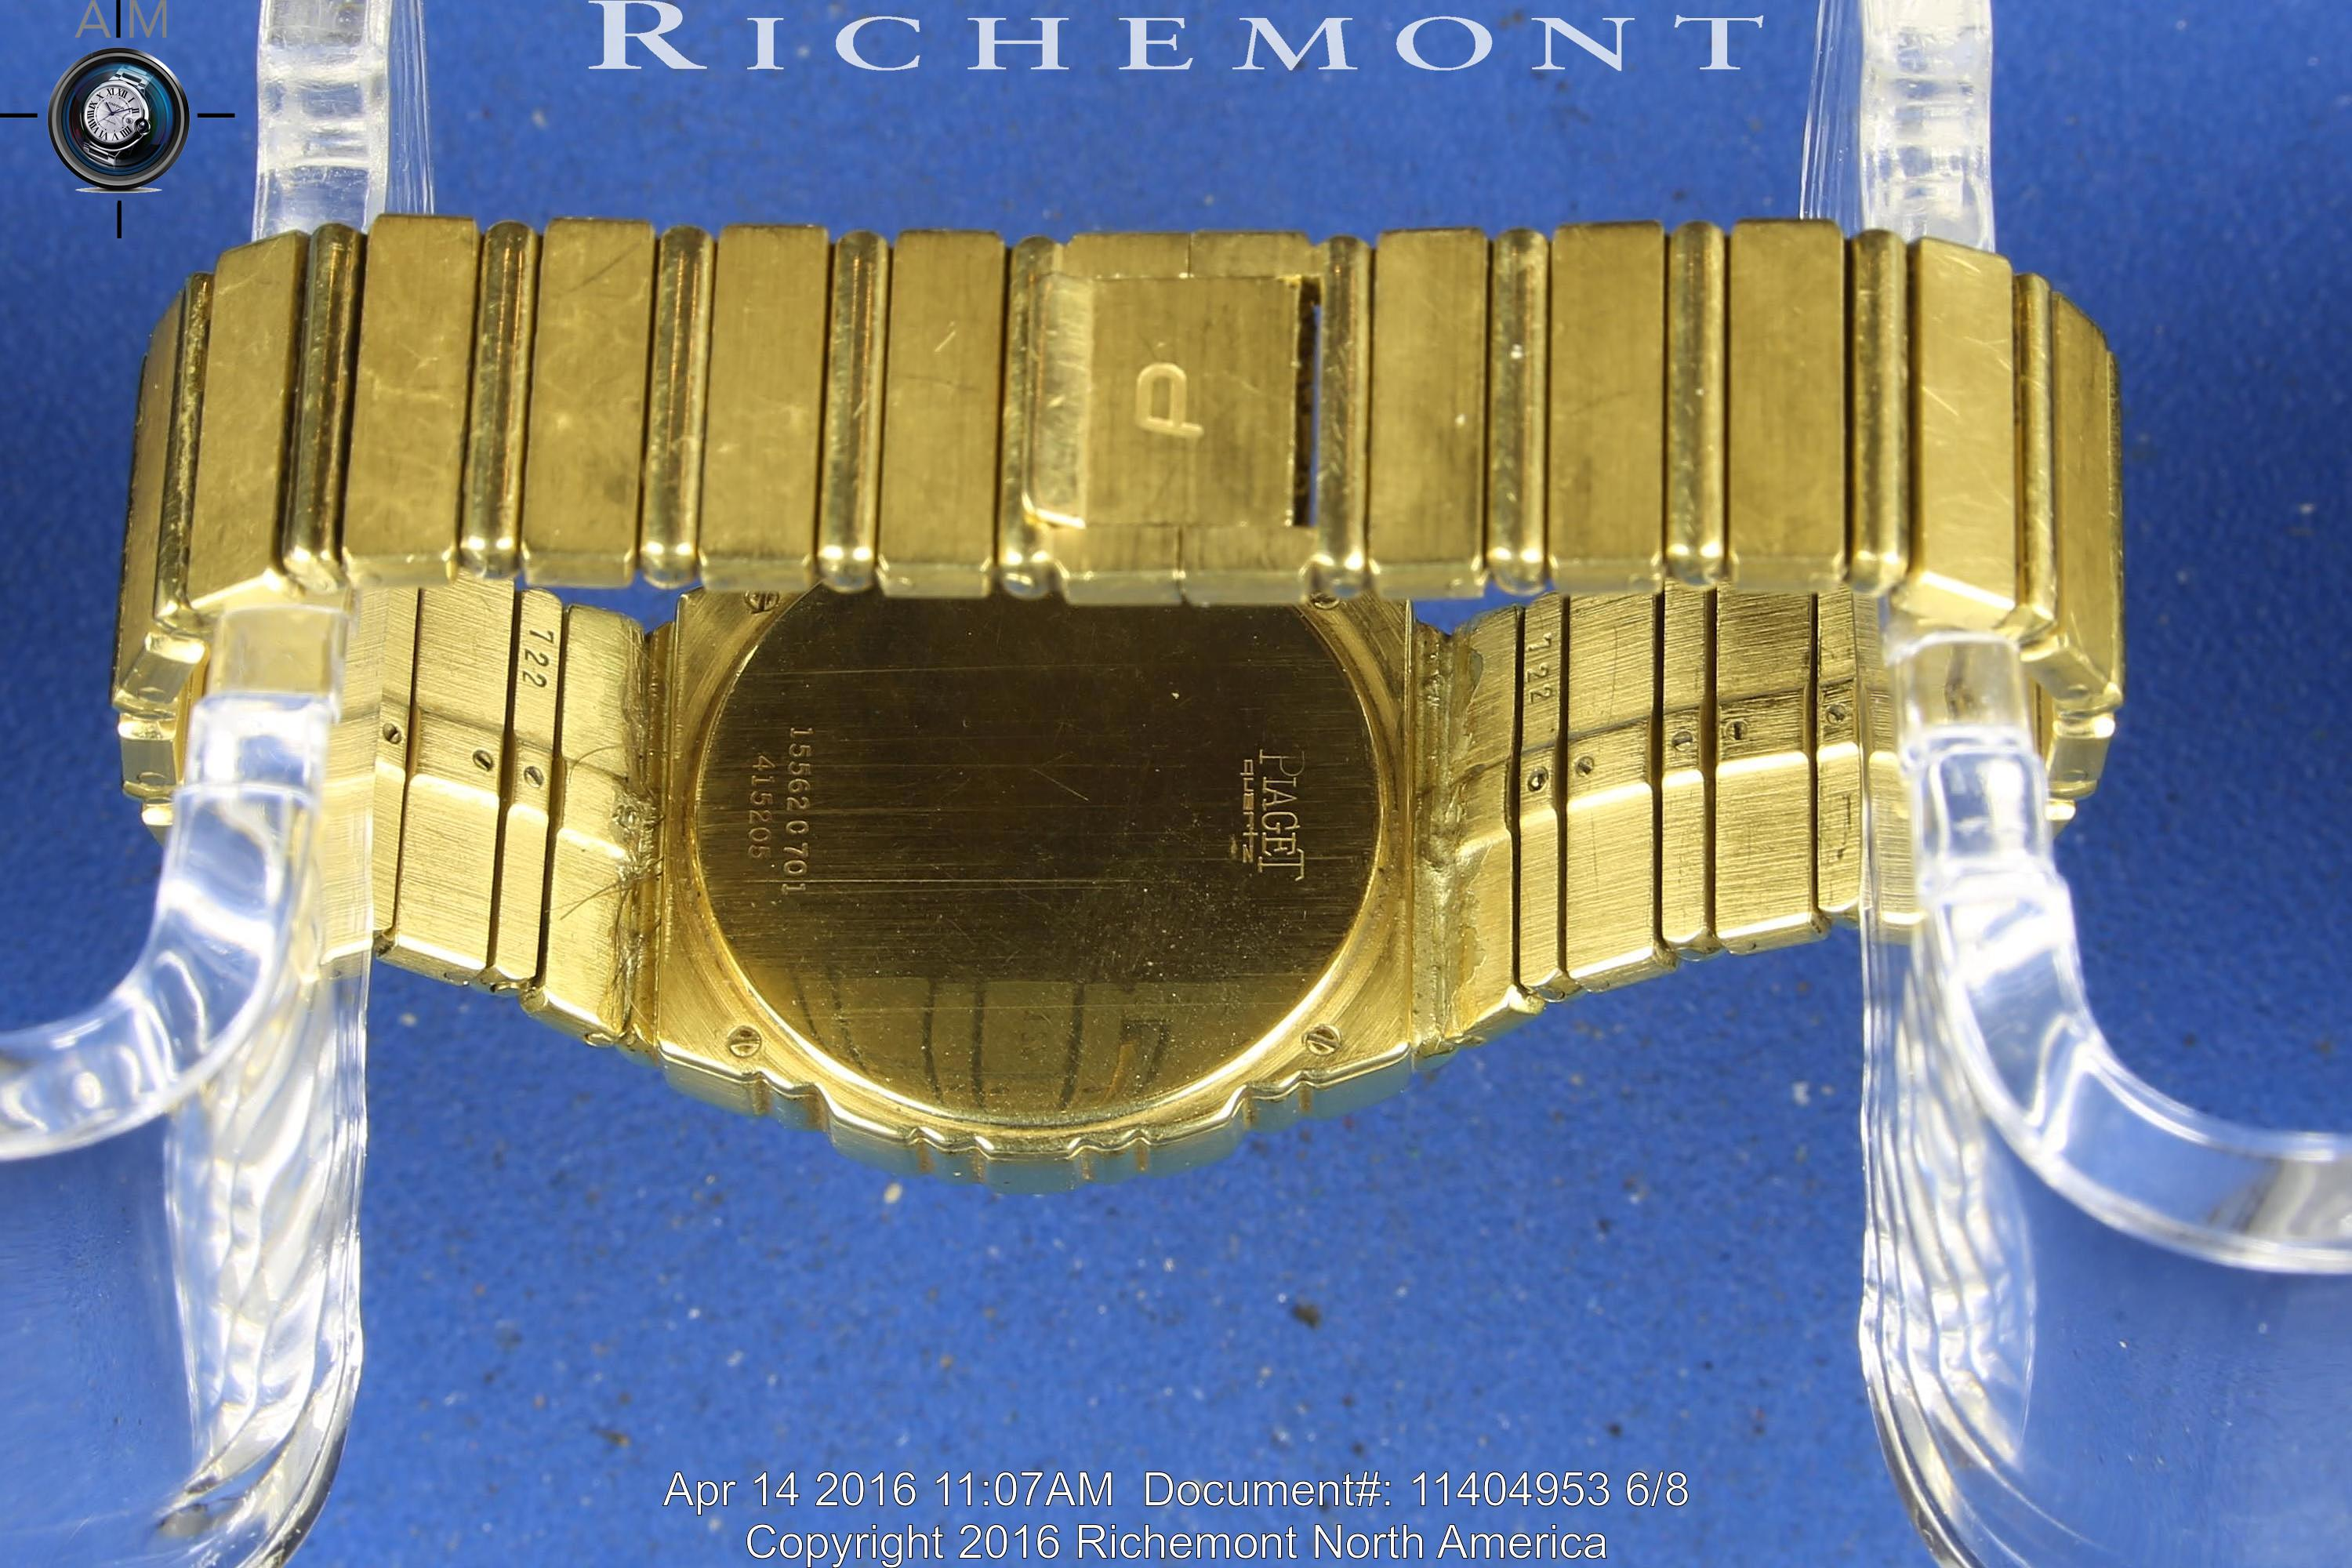Watch BackCase: (674, 588, 1395, 1199)
